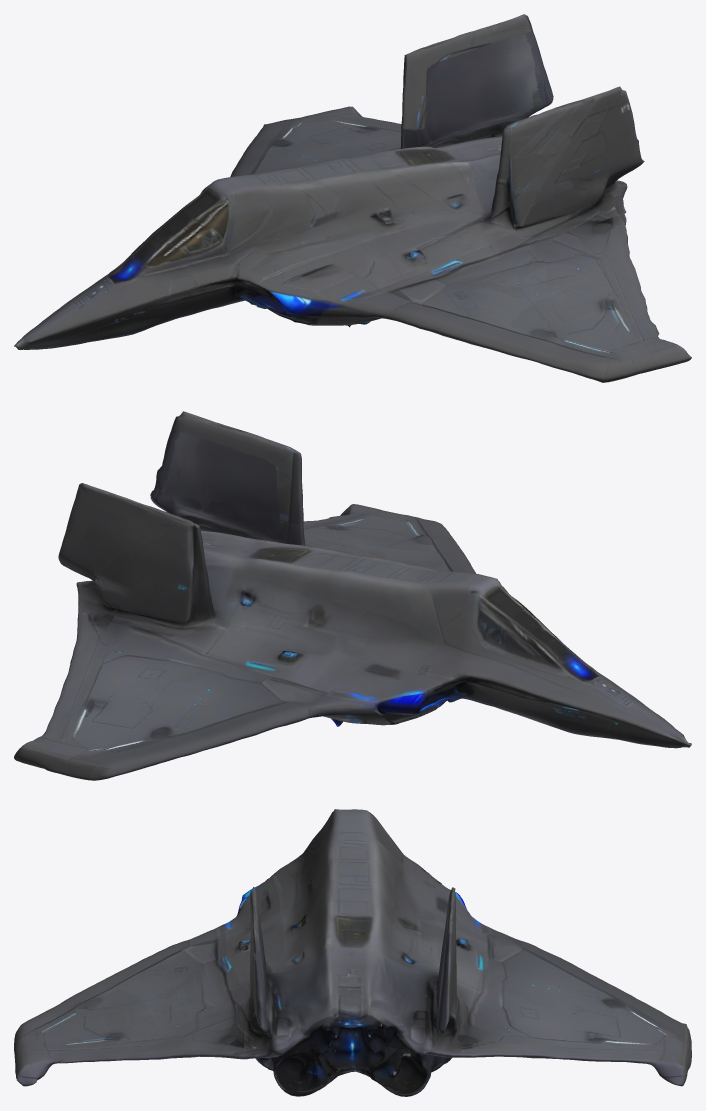
The model's file is wraith.glb.
3 renders of one model, top to bottom at view 1: azimuth 30°, elevation 25°; view 2: azimuth 150°, elevation 25°; view 3: azimuth 270°, elevation 25°, orthographic.
Bounding box in the file's own units: 1.99 × 0.6684 × 2.
Materials: 1 (1 with a texture image).
